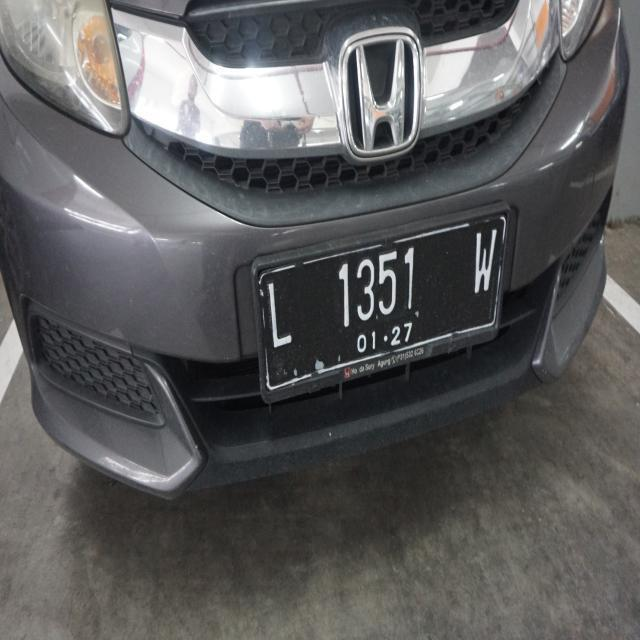1: (332, 254, 354, 344)
3: (354, 250, 376, 322)
5: (374, 246, 398, 319)
D: (398, 245, 424, 319)
L: (262, 278, 300, 356)
W: (469, 228, 495, 302)
